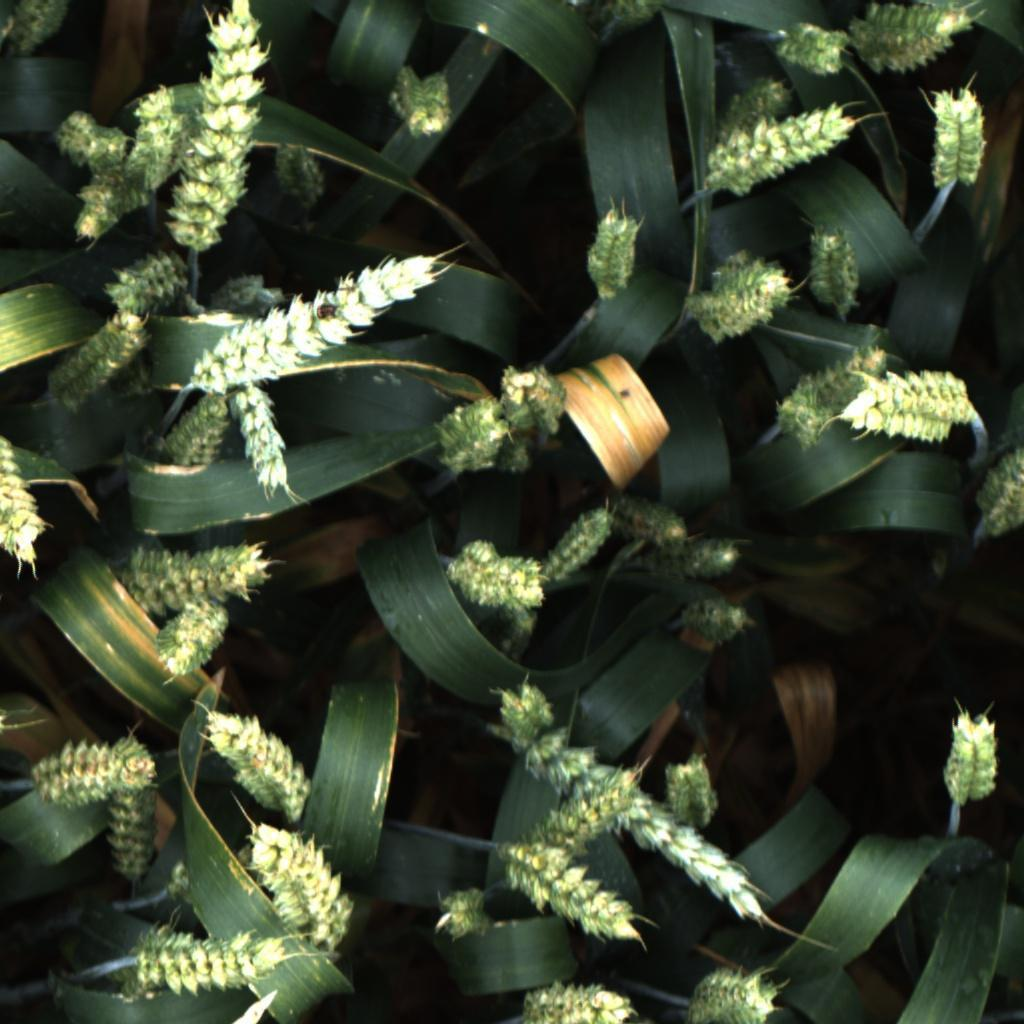0-0: (505, 712, 767, 924), (188, 247, 439, 400), (176, 9, 274, 245), (496, 839, 655, 952), (692, 102, 858, 197), (242, 824, 357, 954), (203, 704, 319, 825), (772, 341, 891, 456), (113, 536, 275, 618), (129, 922, 289, 998), (523, 763, 641, 862), (44, 304, 153, 410), (832, 365, 972, 447), (841, 0, 975, 76), (28, 735, 157, 813), (218, 390, 304, 496), (102, 729, 160, 886), (124, 73, 199, 190), (98, 250, 194, 328), (573, 202, 649, 298), (925, 82, 991, 192), (430, 394, 514, 480), (67, 169, 156, 250), (935, 705, 1003, 806), (0, 420, 48, 563), (508, 974, 645, 1024), (153, 383, 234, 466), (680, 282, 775, 350), (547, 495, 617, 587), (497, 360, 573, 444), (799, 226, 866, 317), (156, 601, 228, 683), (702, 248, 793, 311), (687, 964, 782, 1024), (167, 848, 261, 908), (385, 63, 457, 140), (480, 671, 554, 745), (716, 73, 794, 143), (663, 744, 726, 827), (264, 135, 326, 219), (970, 443, 1023, 540), (443, 537, 512, 610), (51, 102, 127, 168), (607, 487, 687, 548), (642, 533, 742, 579), (774, 22, 855, 77), (430, 880, 492, 947), (206, 271, 288, 319), (676, 595, 748, 648), (7, 0, 70, 60), (495, 552, 549, 617), (582, 0, 667, 39), (497, 608, 538, 665), (492, 426, 536, 479), (1002, 382, 1024, 451)
